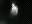person: (10, 3, 20, 19)
